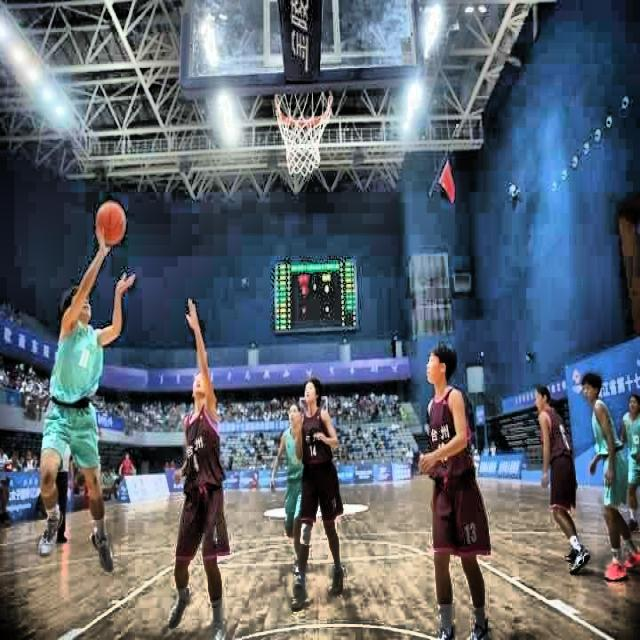board: (97, 202, 125, 243)
rim: (274, 88, 333, 176)
